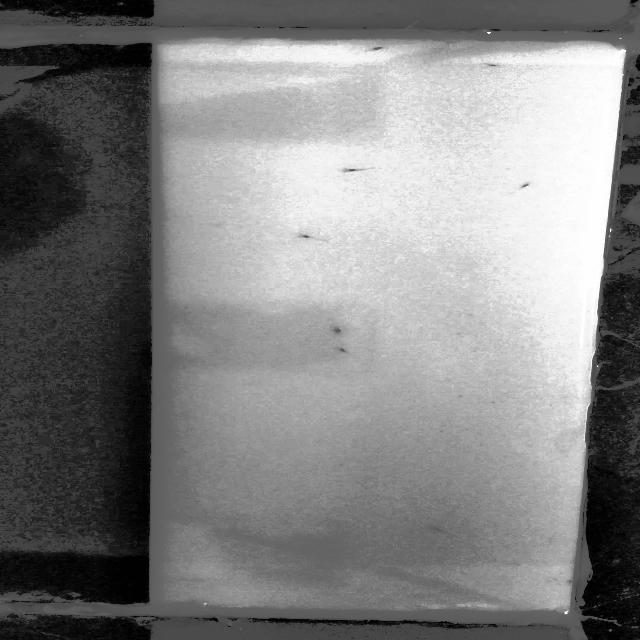shrimp: (422, 522, 453, 538), (340, 166, 376, 176), (478, 60, 508, 70), (290, 230, 314, 242), (367, 44, 389, 56), (324, 324, 344, 335), (327, 345, 351, 354), (514, 180, 536, 189)
